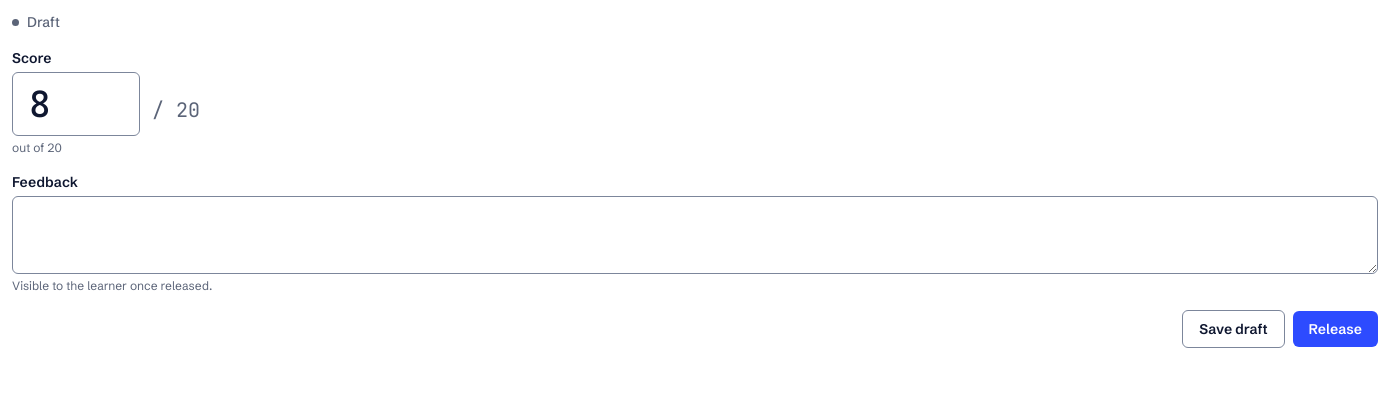
Scenario: GradeEntryClient — DRAFT / no grade yet › does not release an existing draft when saving its edits fails
Click the button "Release": click(1335, 329) [1293,311,1378,347]
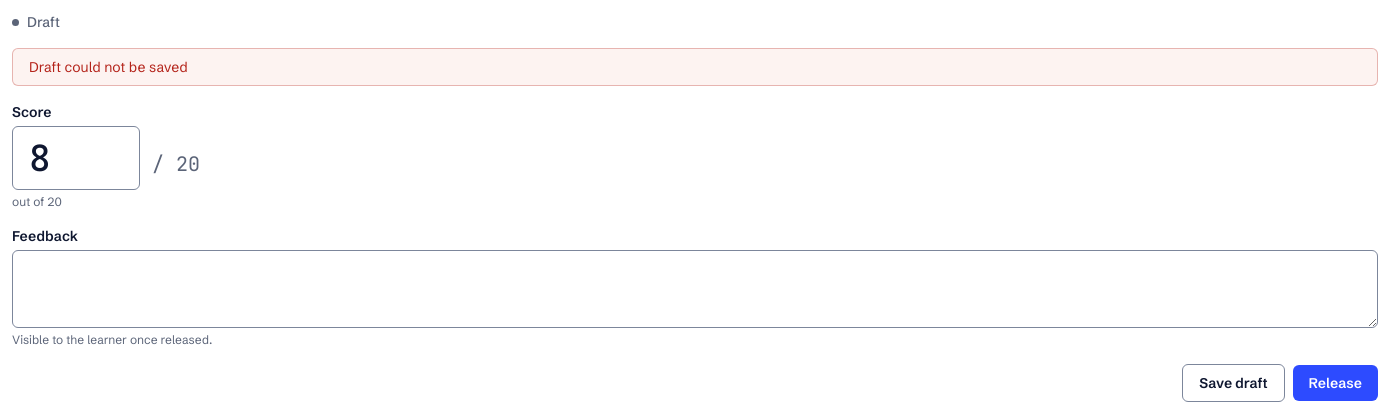
Result: the text "Draft could not be saved" is shown at [29,58,188,76]
